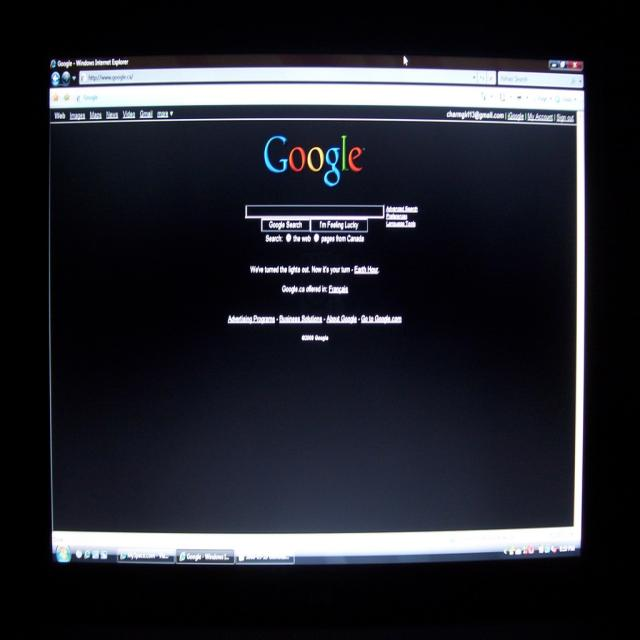google: (260, 130, 367, 193)
